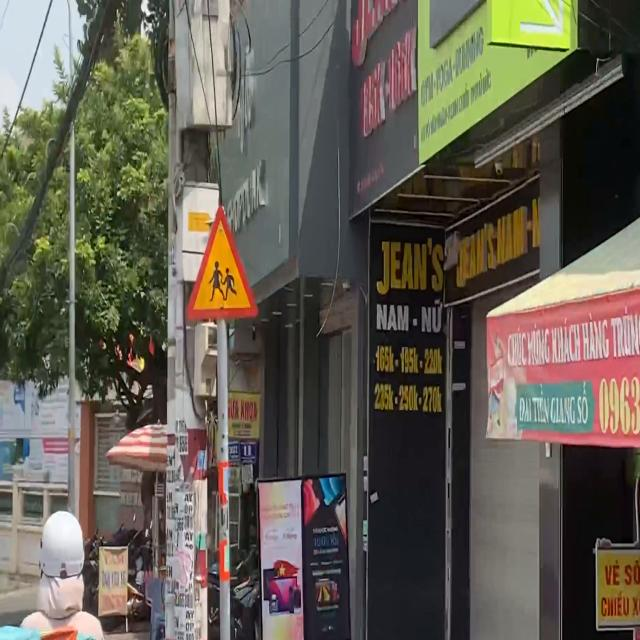Nguy hiem: (186, 203, 259, 322)
